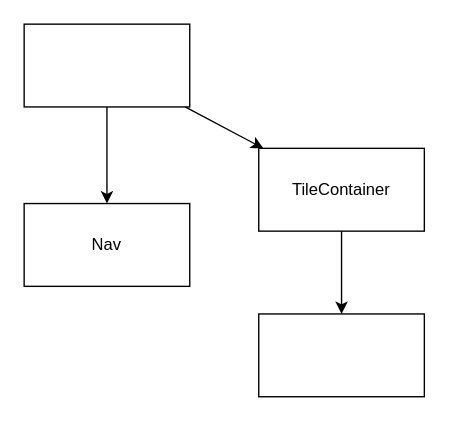
This 449x421 diagram has some shape labels left out. Each missing label, with the centre of its shape:
"App" goes at pixel 106 65.
"Tile" goes at pixel 340 355.
